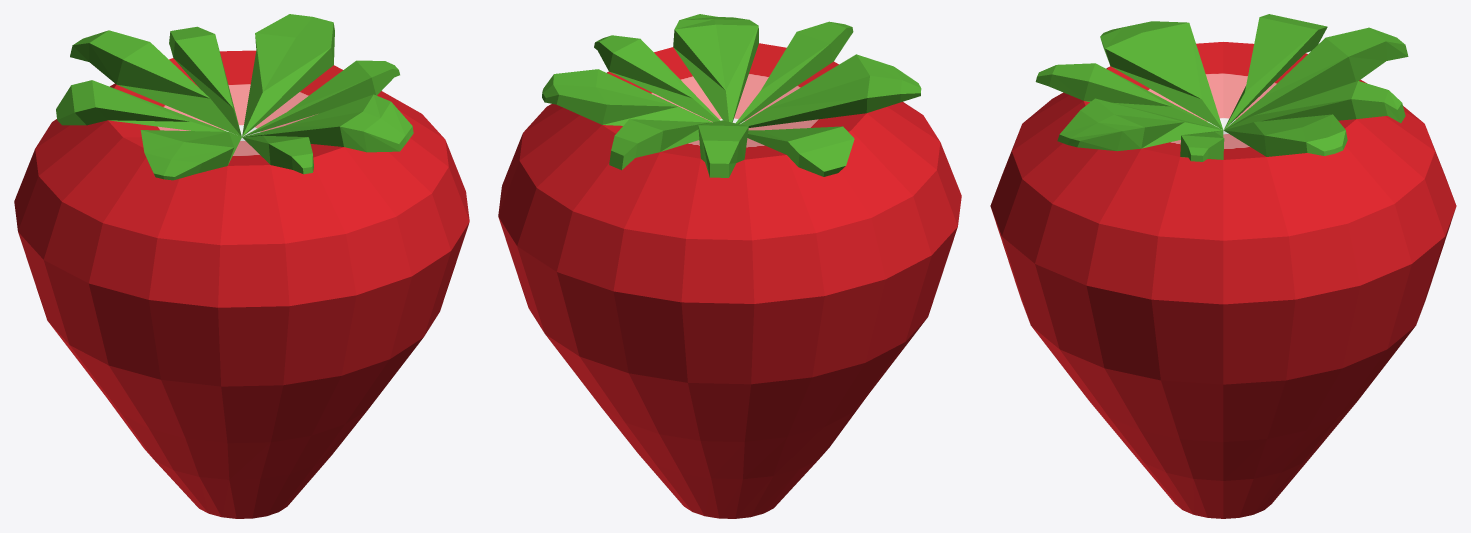
File: strawberry.fbx
3 views of the same model, side by side, from view 1: azimuth 30°, elevation 25°; view 2: azimuth 150°, elevation 25°; view 3: azimuth 270°, elevation 25° (orthographic).
Parts seen in each view (by area): view 1: pCylinder1; view 2: pCylinder1; view 3: pCylinder1.
Boxes of the visible parts, <box> form: pCylinder1: <box>14,14,469,518</box>; pCylinder1: <box>498,14,961,518</box>; pCylinder1: <box>990,14,1456,518</box>.
Bounding box in the file's own units: 2.3 × 2.44 × 2.3.
